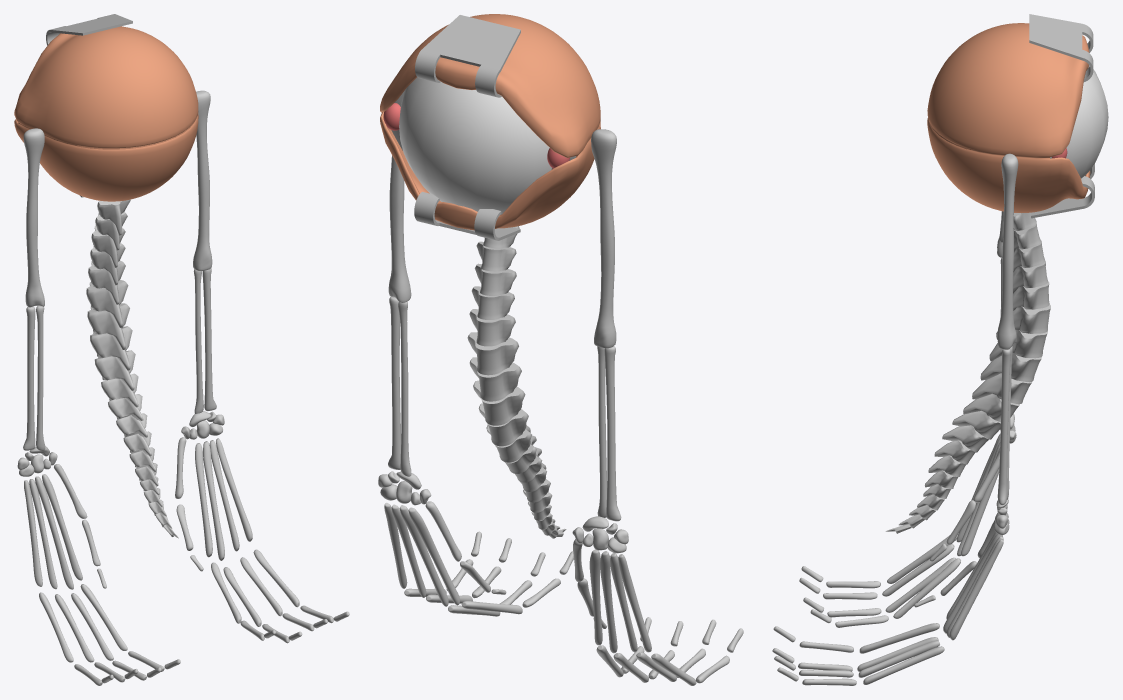
File: sentinel.fbx
3 views of the same model, side by side, from view 1: azimuth 30°, elevation 25°; view 2: azimuth 150°, elevation 25°; view 3: azimuth 270°, elevation 25° (orthographic). The views are drawn at different scales.
Parts seen in each view (by area): view 1: oeiluv2:pSphere21, polySurface4, polySurface33, polySurface31, polySurface60, oeiluv2:pPipe5, oeiluv2:pCylinder67, oeiluv2:pCylinder66, oeiluv2:pCylinder68, polySurface92, polySurface66, polySurface107 (+19 smaller); view 2: oeiluv2:pSphere21, polySurface3, oeiluv2:pPipe5, polySurface4, polySurface60, polySurface31, polySurface33, polySurface81, oeiluv2:pCylinder66, polySurface107, oeiluv2:pCylinder67, oeiluv2:pCylinder68 (+16 smaller); view 3: oeiluv2:pSphere21, oeiluv2:pPipe5, polySurface3, polySurface33, polySurface60, oeiluv2:pCylinder68, oeiluv2:pCylinder67, oeiluv2:pCylinder66, oeiluv2:pCylinder69, polySurface94, oeiluv2:pCylinder65, oeiluv2:pCylinder71 (+14 smaller).
Boxes of the visible parts, bbox=[...] form: oeiluv2:pSphere21: bbox=[14, 26, 198, 201]; polySurface4: bbox=[23, 128, 44, 307]; polySurface33: bbox=[193, 90, 212, 270]; polySurface31: bbox=[23, 306, 45, 450]; polySurface60: bbox=[193, 268, 216, 413]; oeiluv2:pPipe5: bbox=[46, 14, 132, 197]; oeiluv2:pCylinder67: bbox=[87, 303, 129, 349]; oeiluv2:pCylinder66: bbox=[86, 280, 128, 327]; oeiluv2:pCylinder68: bbox=[90, 326, 132, 370]; polySurface92: bbox=[203, 441, 224, 560]; polySurface66: bbox=[35, 476, 73, 589]; polySurface107: bbox=[181, 411, 224, 439]; oeiluv2:pSphere21: bbox=[380, 14, 600, 230]; polySurface3: bbox=[399, 77, 551, 214]; oeiluv2:pPipe5: bbox=[414, 15, 520, 240]; polySurface4: bbox=[591, 129, 616, 348]; polySurface60: bbox=[388, 297, 411, 476]; polySurface31: bbox=[597, 346, 621, 521]; polySurface33: bbox=[388, 155, 411, 302]; polySurface81: bbox=[572, 516, 628, 553]; oeiluv2:pCylinder66: bbox=[467, 332, 518, 375]; polySurface107: bbox=[378, 471, 431, 505]; oeiluv2:pCylinder67: bbox=[469, 357, 521, 401]; oeiluv2:pCylinder68: bbox=[473, 380, 525, 425]; oeiluv2:pSphere21: bbox=[927, 23, 1090, 213]; oeiluv2:pPipe5: bbox=[1029, 14, 1094, 218]; polySurface3: bbox=[1066, 65, 1108, 178]; polySurface33: bbox=[997, 153, 1018, 349]; polySurface60: bbox=[997, 346, 1012, 505]; oeiluv2:pCylinder68: bbox=[980, 353, 1041, 382]; oeiluv2:pCylinder67: bbox=[989, 329, 1047, 361]; oeiluv2:pCylinder66: bbox=[996, 304, 1050, 339]; oeiluv2:pCylinder69: bbox=[972, 373, 1031, 404]; polySurface94: bbox=[949, 539, 1003, 640]; oeiluv2:pCylinder65: bbox=[1013, 281, 1049, 310]; oeiluv2:pCylinder71: bbox=[952, 410, 1000, 439].
Size of the model in its own units: 5.81 by 13.77 by 6.77.
